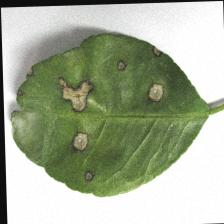canker: (52, 51, 170, 186)
